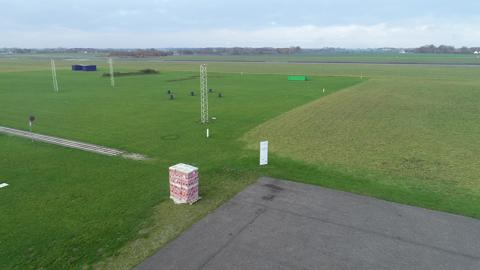RockwoolPallet: (168, 163, 200, 205)
